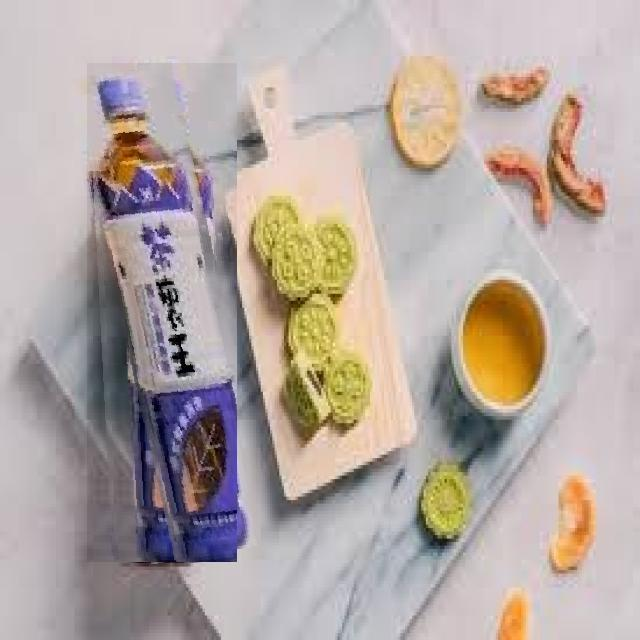ChaLiWong_TsingXinOolong: (87, 63, 237, 562)
